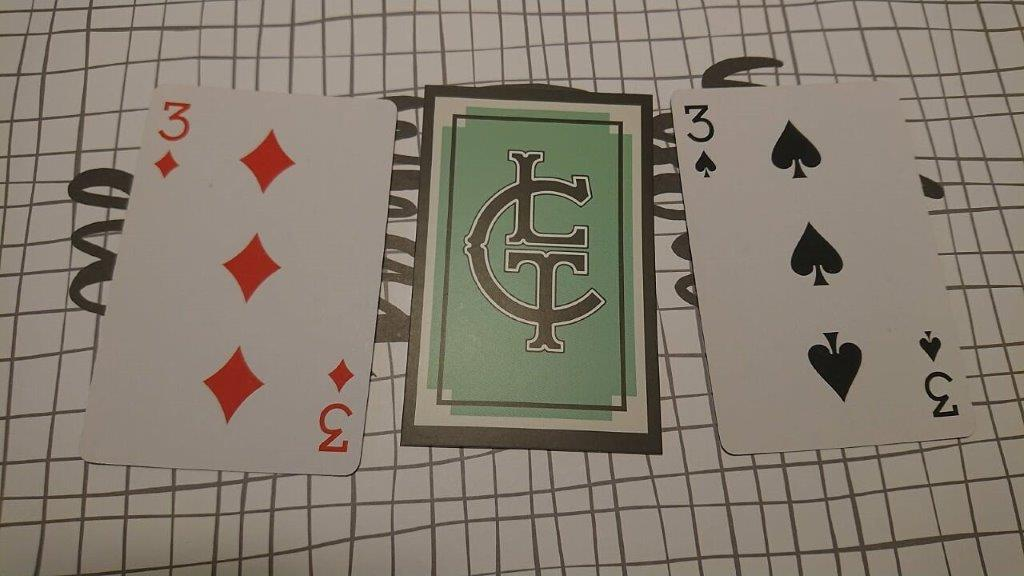3D: (149, 98, 195, 181)
3S: (678, 101, 719, 181)
